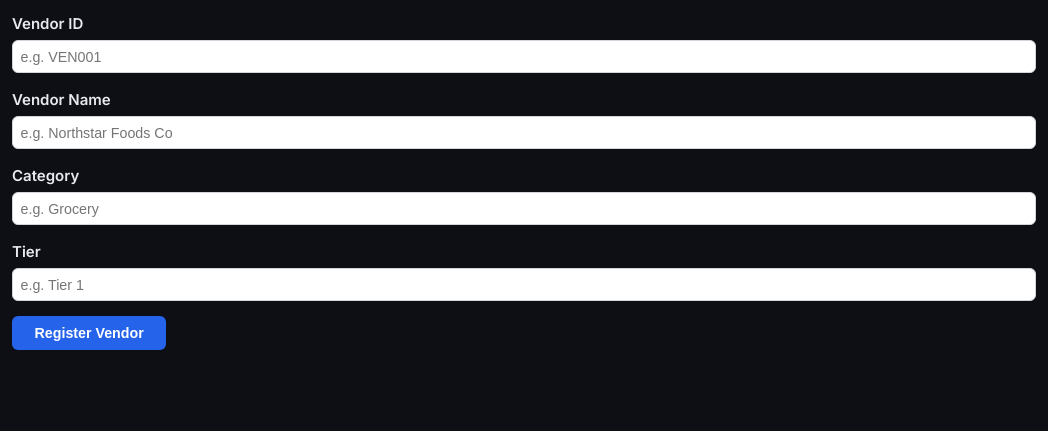
Test case: VendorRegisterForm › shows error message on duplicate vendor
Type "VEN001" into the field labelled "Vendor ID".
click(524, 56); type("VEN001")  # box [12,40,1036,73]
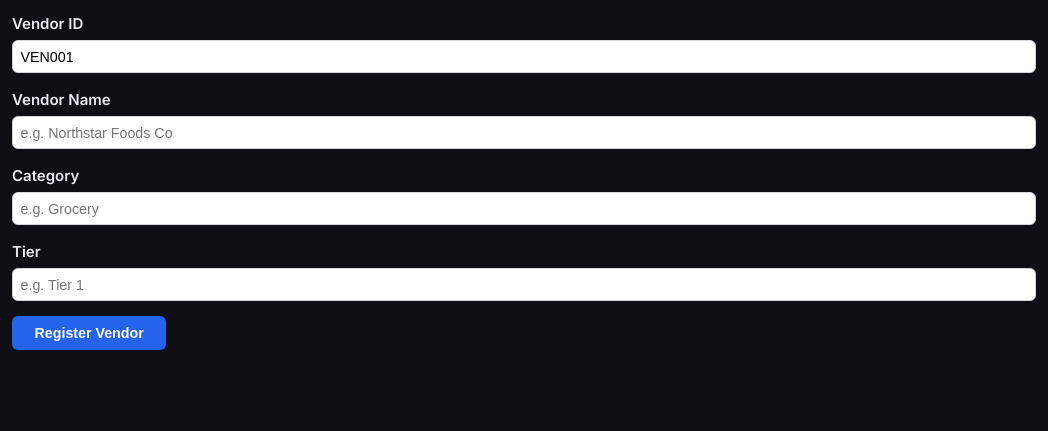
Type "Northstar" into the field labelled "Vendor Name".
click(524, 132); type("Northstar")  # box [12,116,1036,149]
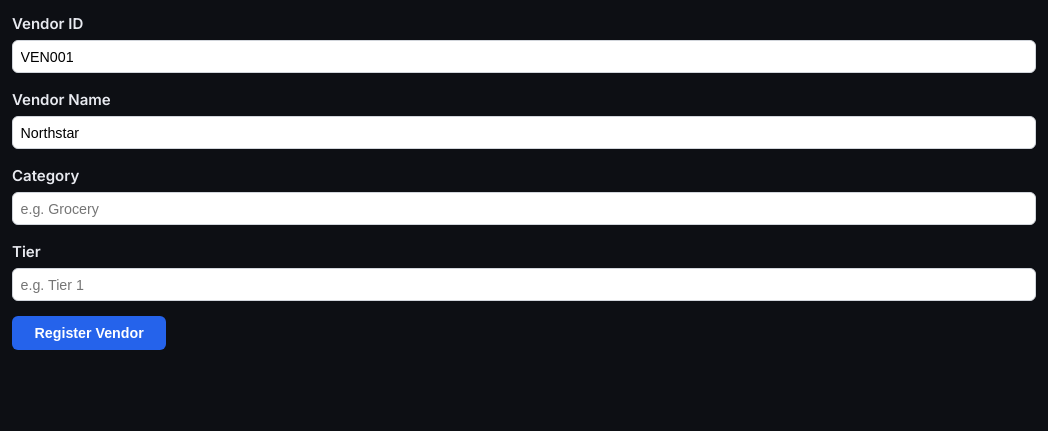
Type "Grocery" into the field labelled "Category".
click(524, 208); type("Grocery")  # box [12,192,1036,225]
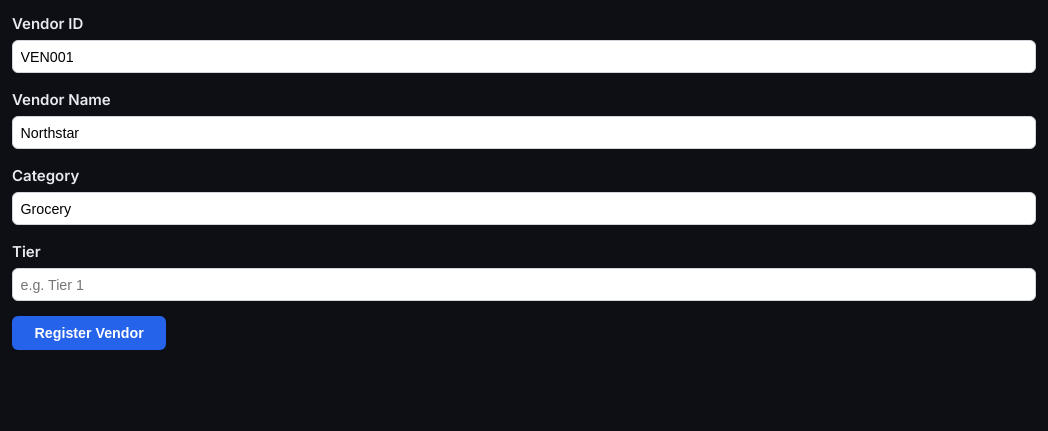
Type "Tier 1" into the field labelled "Tier".
click(524, 284); type("Tier 1")  # box [12,268,1036,301]
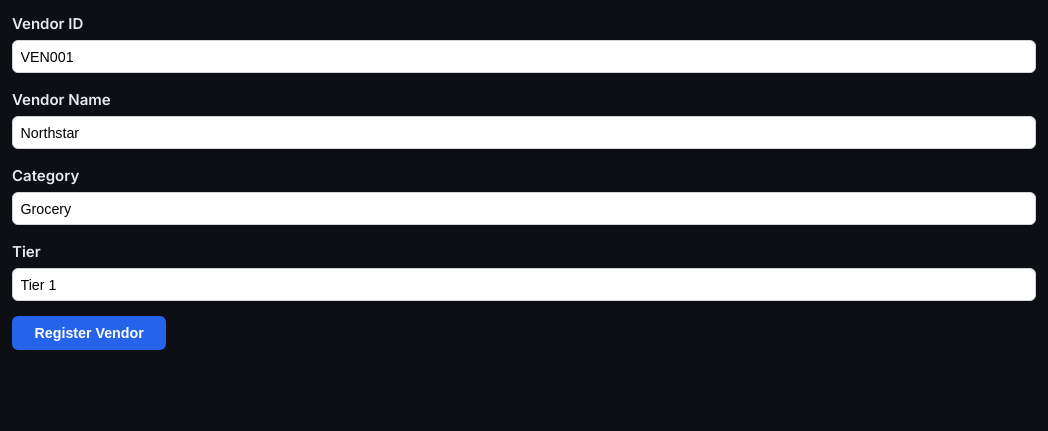
Click the button "Register Vendor".
click(89, 333)  # box [12,316,166,350]
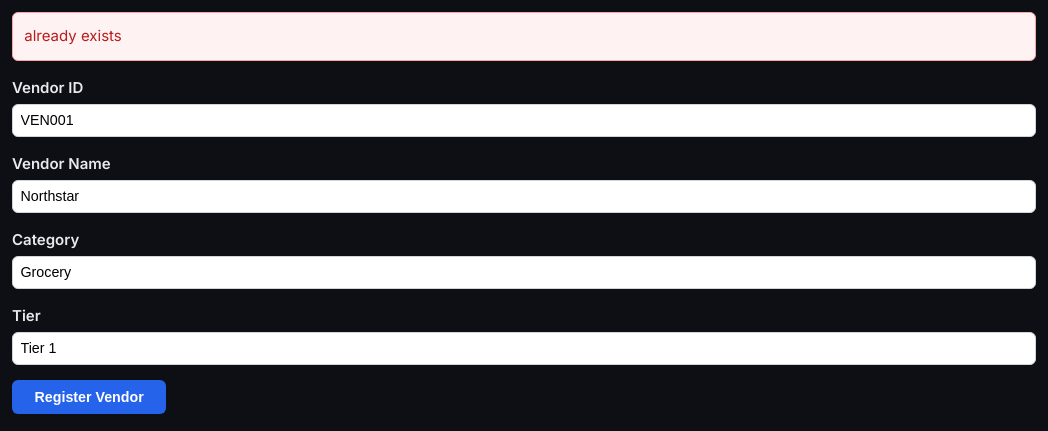
Expected: the text "already exists" is shown, [12,12,1036,60]
